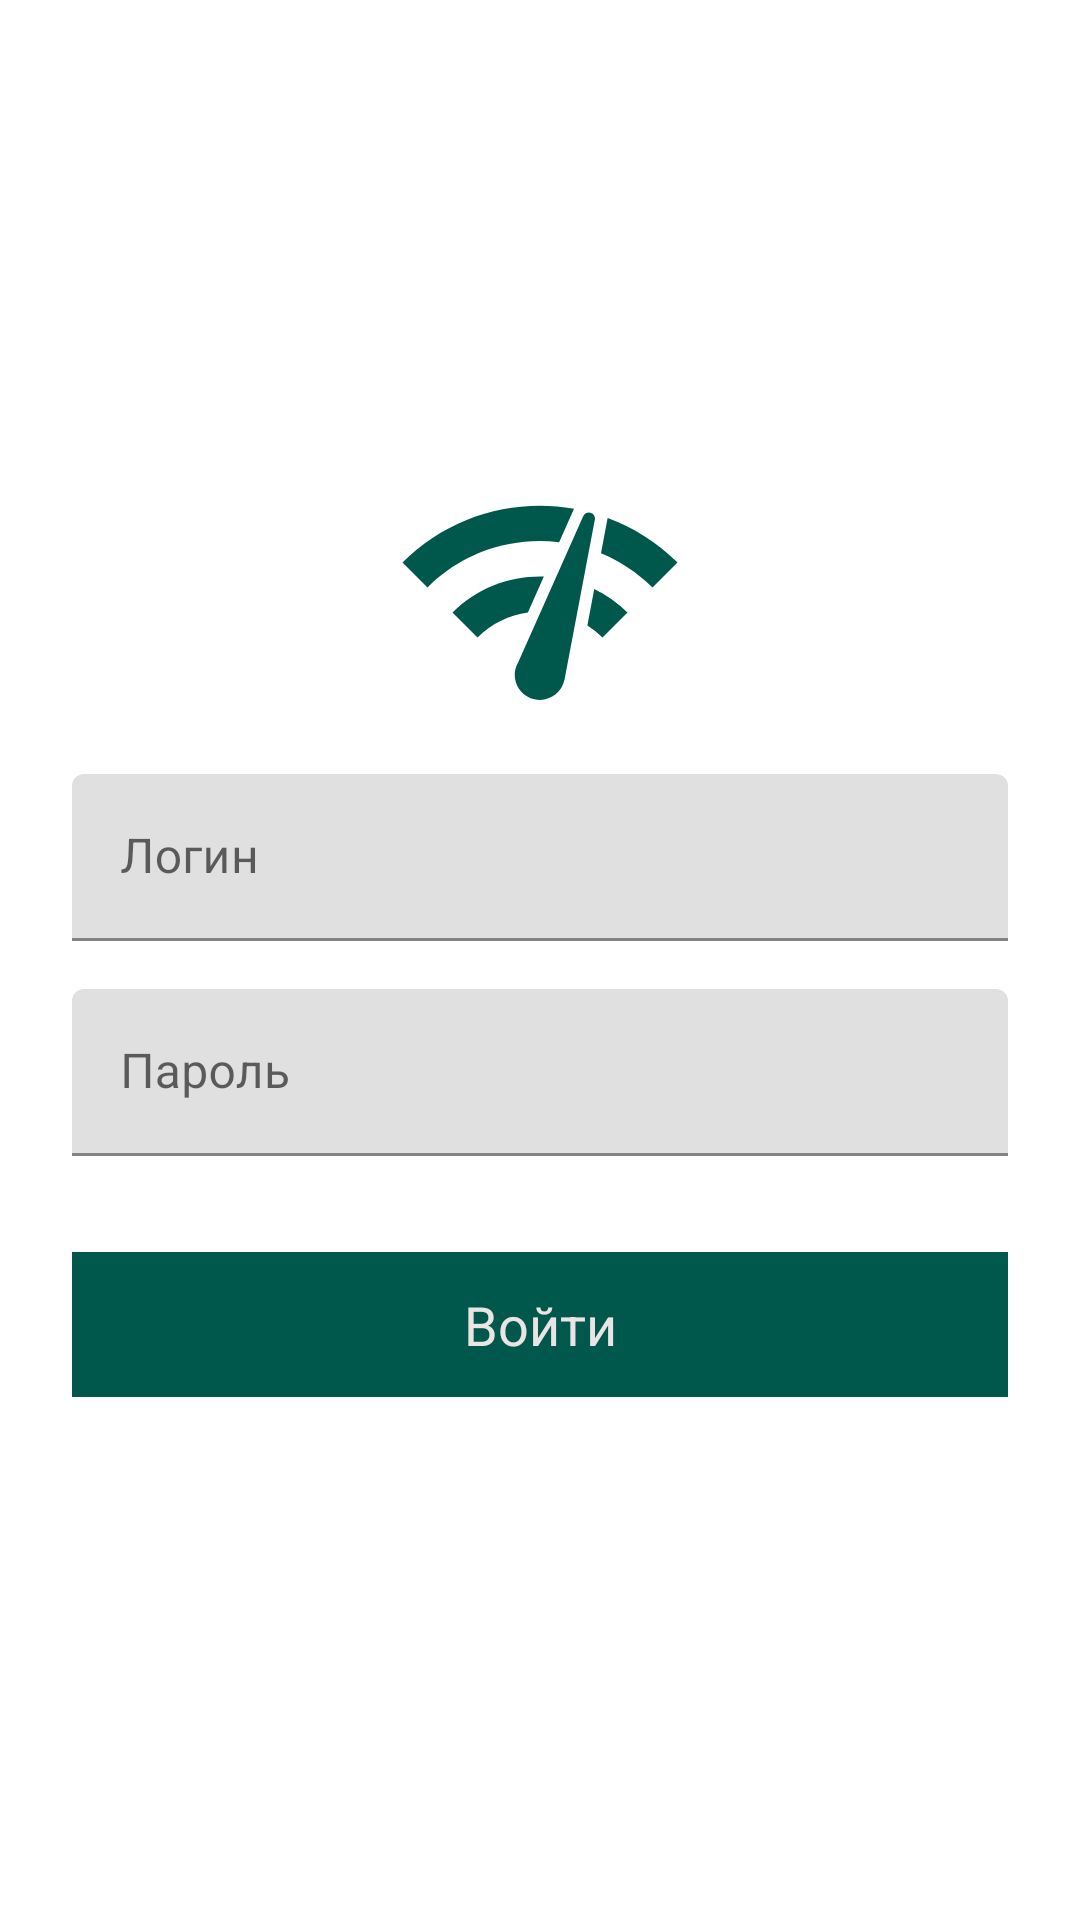

Icon click points for this 1080px×1920px phone screenshot, format point (x, y):
network check: point (540, 602)
